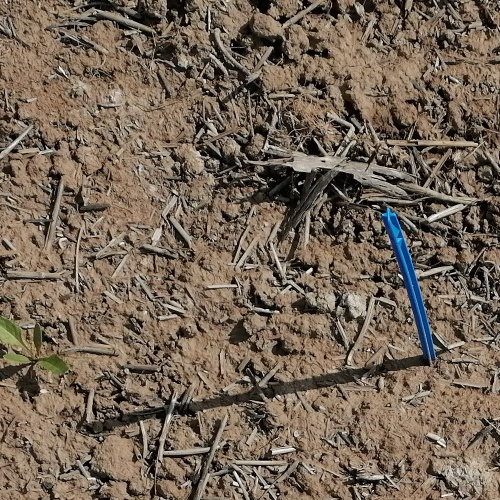beet: (0, 314, 69, 372)
